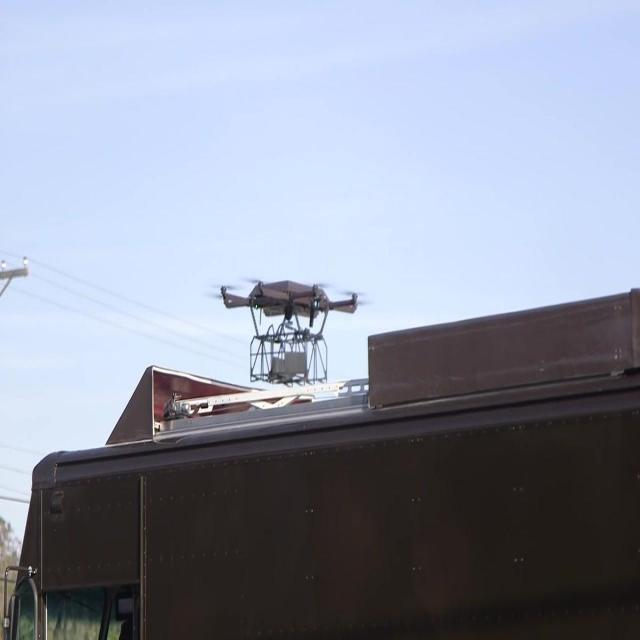UAV: (212, 280, 368, 387)
